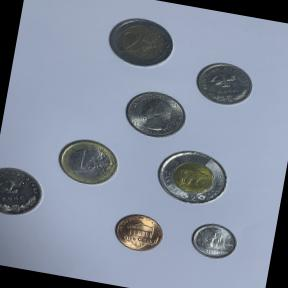coin: (148, 142, 236, 214), (100, 10, 180, 78), (49, 132, 124, 194), (117, 84, 192, 146), (0, 159, 50, 224), (108, 207, 168, 259), (184, 217, 243, 266)
